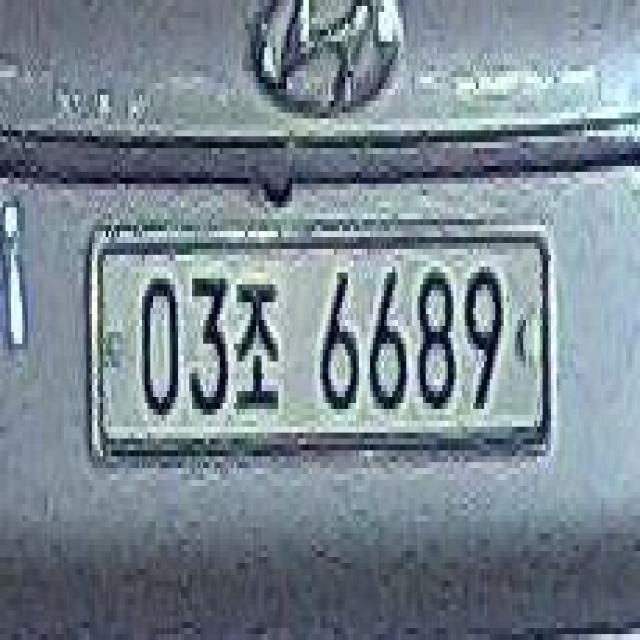illegal_plate: (82, 209, 557, 480)
